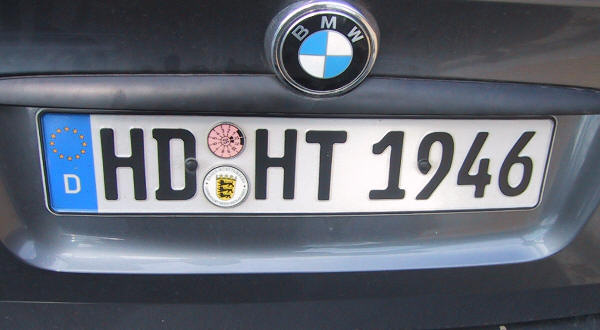license_plate: (35, 110, 558, 218)
